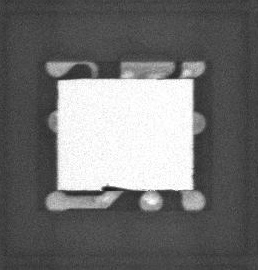DIE_BROKEN: (100, 183, 124, 192)
